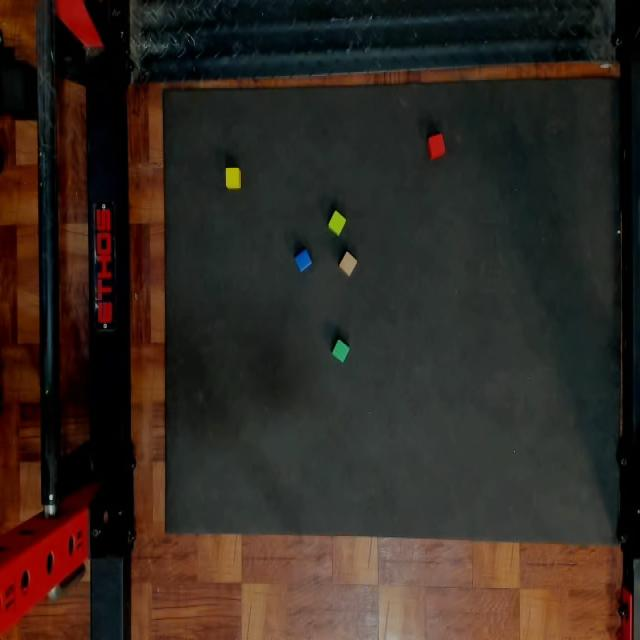block: (328, 209, 346, 235), (339, 251, 356, 276), (332, 339, 349, 363), (225, 167, 240, 188), (429, 135, 443, 156), (297, 249, 311, 269)
